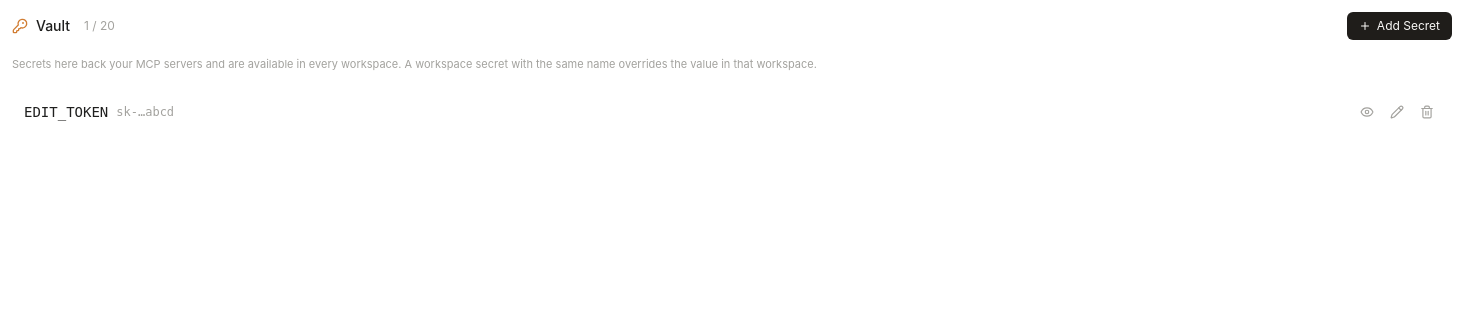
Test: SecretsManager via the user vault adapter — update › surfaces a rejected update
Click the button titled "Edit". click: point(1397, 112)
box: x1=1384 y1=98 x2=1410 y2=124
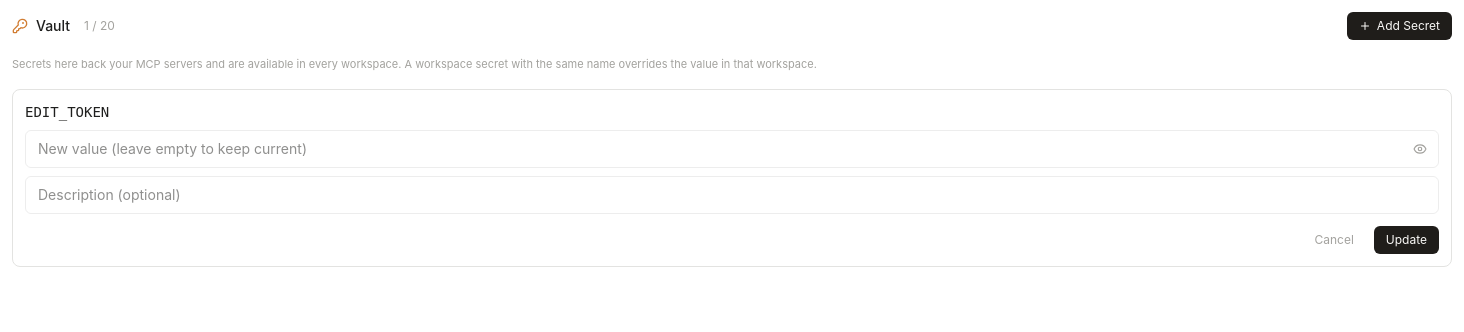
Click the button "Update". click: point(1406, 240)
box: x1=1374 y1=226 x2=1439 y2=254
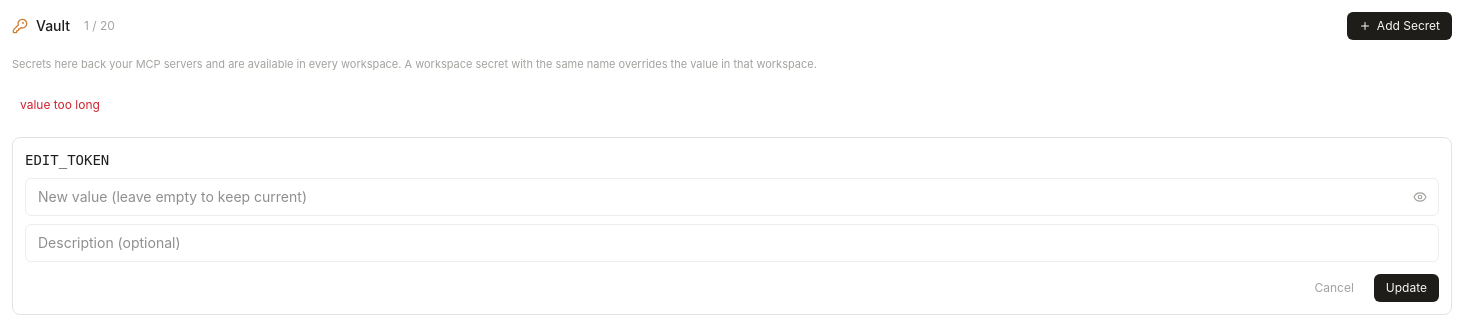
Now the text "value too long" is shown, box x1=12 y1=88 x2=1452 y2=120
